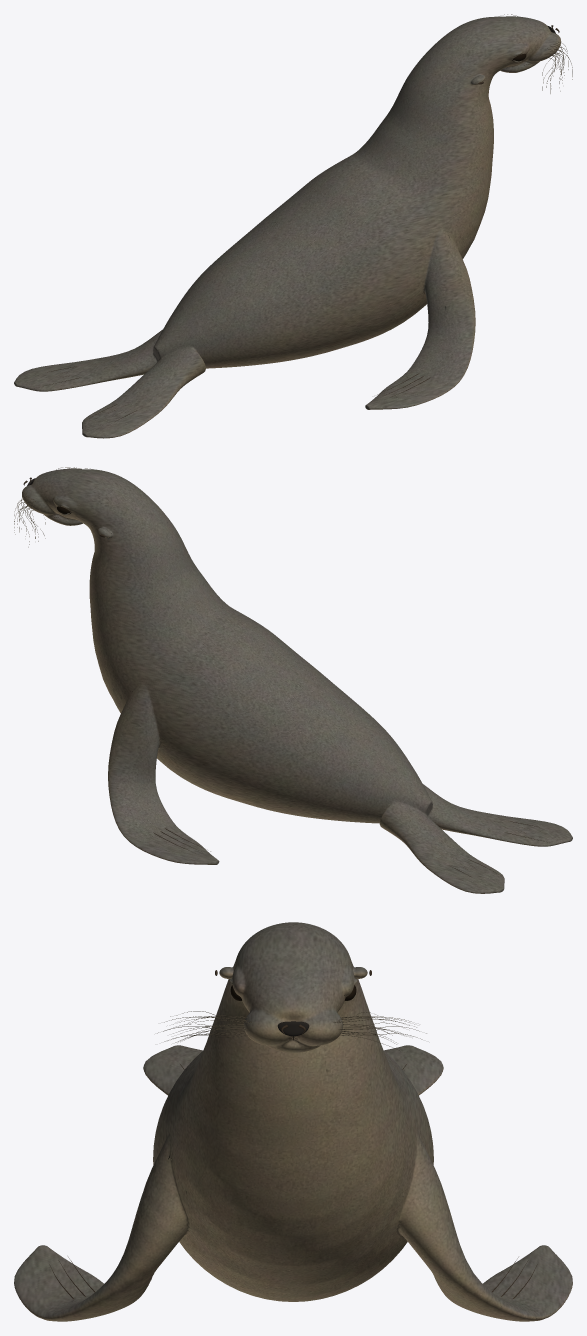
The model's file is australian-sea-lion-experimental.glb.
3 renders of one model, top to bottom at view 1: azimuth 30°, elevation 25°; view 2: azimuth 150°, elevation 25°; view 3: azimuth 270°, elevation 25°, orthographic. The views are drawn at different scales.
Parts seen in each view (by area): view 1: Australian sea lion experimental; view 2: Australian sea lion experimental; view 3: Australian sea lion experimental.
Part boxes in pixels (x1=…): Australian sea lion experimental: x1=14, y1=14, x2=572, y2=438; Australian sea lion experimental: x1=14, y1=467, x2=572, y2=893; Australian sea lion experimental: x1=14, y1=922, x2=572, y2=1321.
Size of the model in its own units: 1.99 by 1.07 by 1.14.
Materials: 5 (1 with a texture image).
